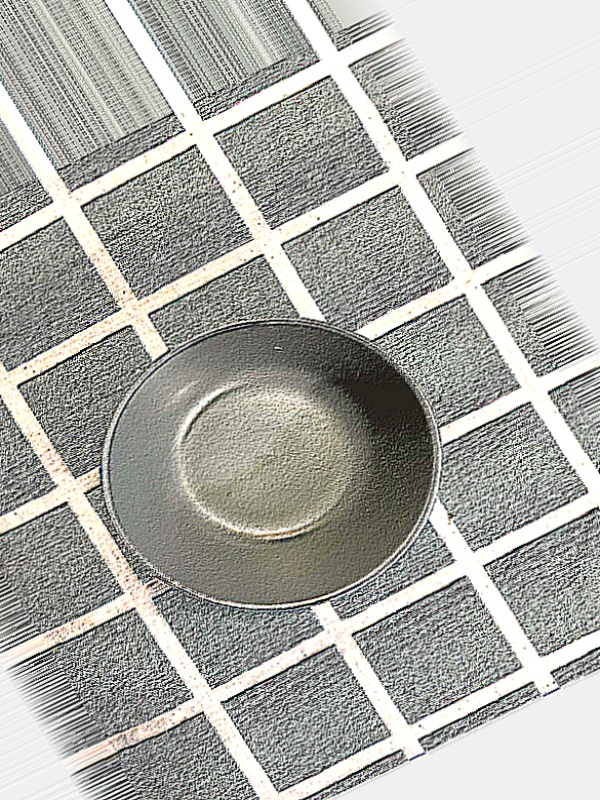bowl_big: (26, 255, 518, 687)
